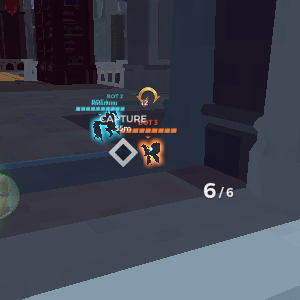model: (141, 139, 162, 174)
